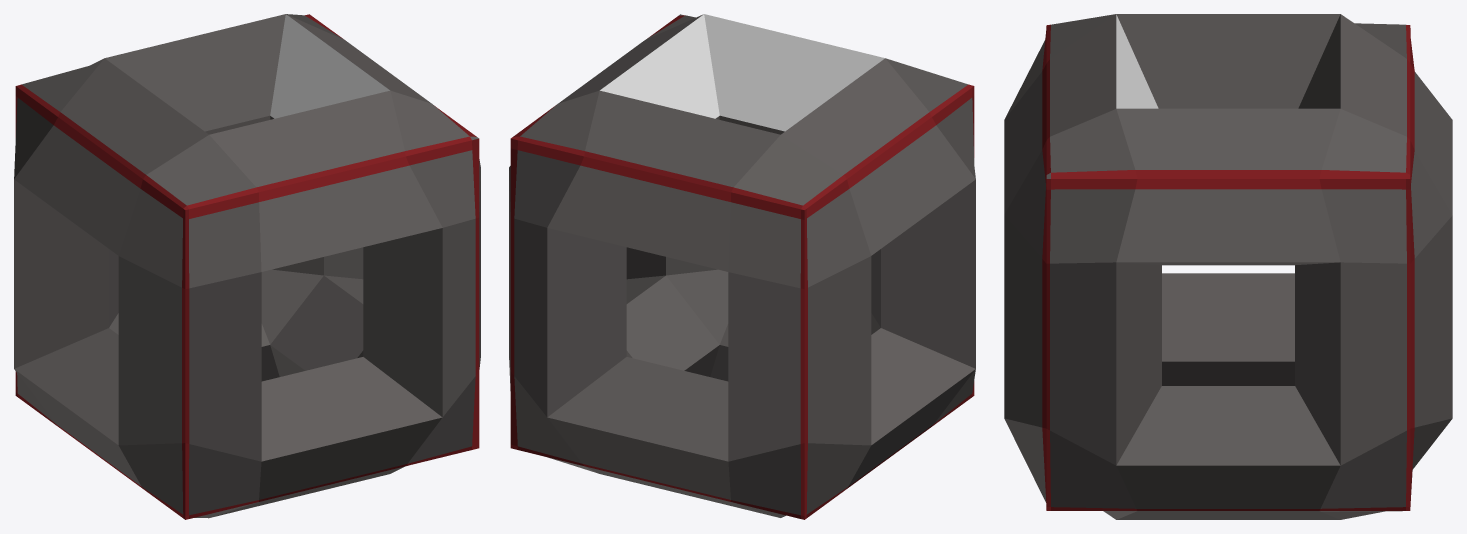
Rendered from StructureLumineusePasEnneigé.fbx.
3 views of the same model, side by side, from view 1: azimuth 30°, elevation 25°; view 2: azimuth 150°, elevation 25°; view 3: azimuth 270°, elevation 25° (orthographic). The views are drawn at different scales.
Visible parts, largest first — view 1: Cube; view 2: Cube; view 3: Cube.
Boxes of the visible parts, box(x1,y1,x2,y2) form: Cube: box(14, 14, 480, 519); Cube: box(509, 14, 975, 519); Cube: box(1004, 14, 1452, 519).
Bounding box in the file's own units: 247 × 249 × 247.
